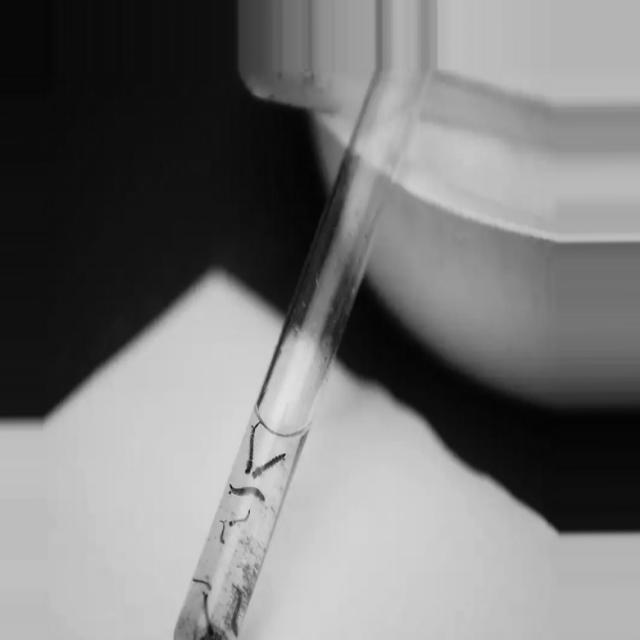larvas: (249, 451, 286, 481), (230, 476, 268, 504), (243, 420, 260, 477), (231, 588, 245, 638), (228, 507, 253, 532), (202, 593, 213, 635), (193, 572, 214, 593), (219, 519, 228, 544)
